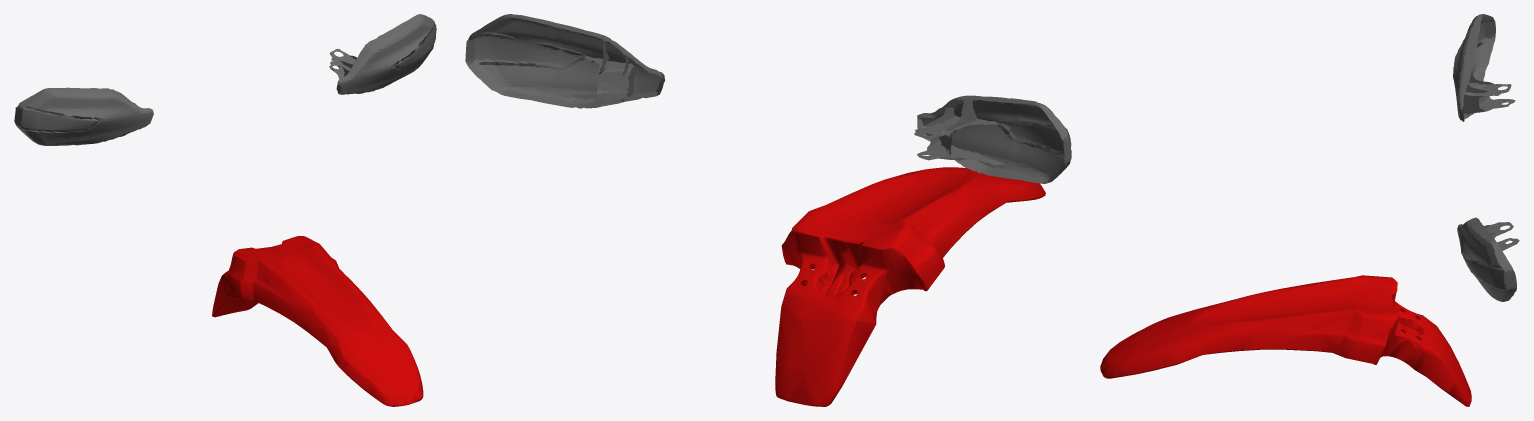
The model's file is han.fbx.
The picture shows the model from 3 angles, left to right: view 1: azimuth 30°, elevation 25°; view 2: azimuth 150°, elevation 25°; view 3: azimuth 270°, elevation 25°; orthographic projection. The views are drawn at different scales.
Parts seen in each view (by area): view 1: polySurface91960, hand_bar1, hand_bar2; view 2: polySurface91960, hand_bar2, hand_bar1; view 3: polySurface91960, hand_bar1, hand_bar2.
Part boxes in pixels (<box>): polySurface91960: <box>212,236,423,406</box>; hand_bar1: <box>14,87,153,145</box>; hand_bar2: <box>329,14,436,94</box>; polySurface91960: <box>775,167,1045,406</box>; hand_bar2: <box>465,14,664,108</box>; hand_bar1: <box>914,95,1071,183</box>; polySurface91960: <box>1100,275,1471,406</box>; hand_bar1: <box>1453,14,1515,121</box>; hand_bar2: <box>1457,217,1519,301</box>.
Size of the model in its own units: 24.94 by 14.79 by 19.46.
